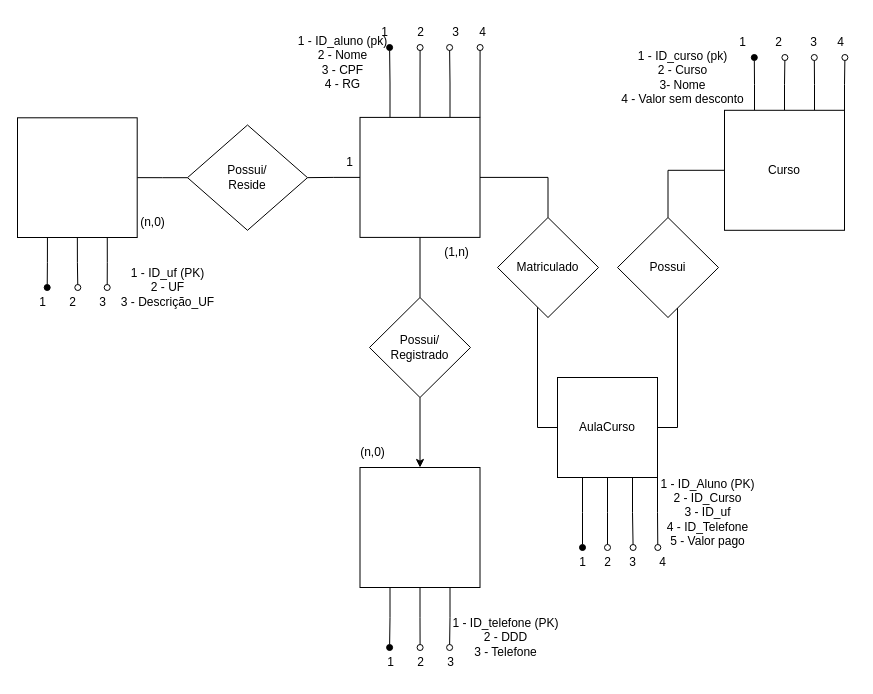
Image size: 873x694. Some labels were removed from this diagram. The shapes that lost their labels are listed below. From the top down, each one's box as (x1, y1, x2, y2) in pixels, then its label:
(16, 117, 137, 238): UF
(359, 116, 480, 237): Aluno
(359, 466, 480, 588): Telefone
